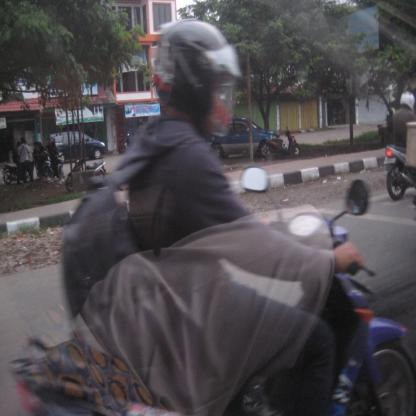Helmet: (150, 14, 242, 144), (400, 90, 415, 113)
